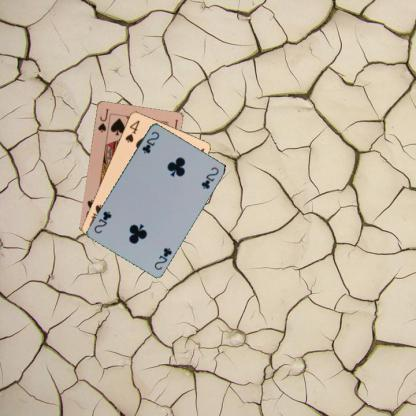2c: (139, 128, 161, 154), (152, 245, 173, 271)
4s: (122, 118, 141, 144)
Js: (95, 106, 110, 134)
